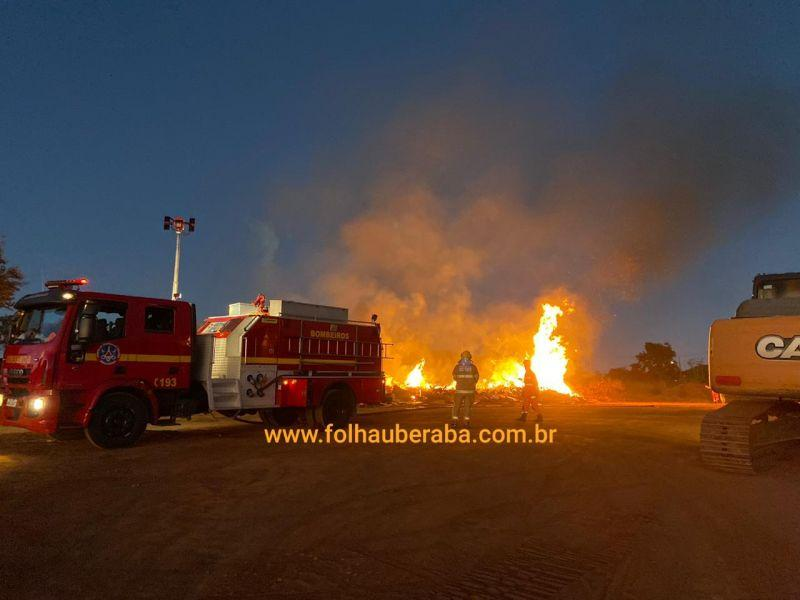fire: (526, 303, 588, 397)
